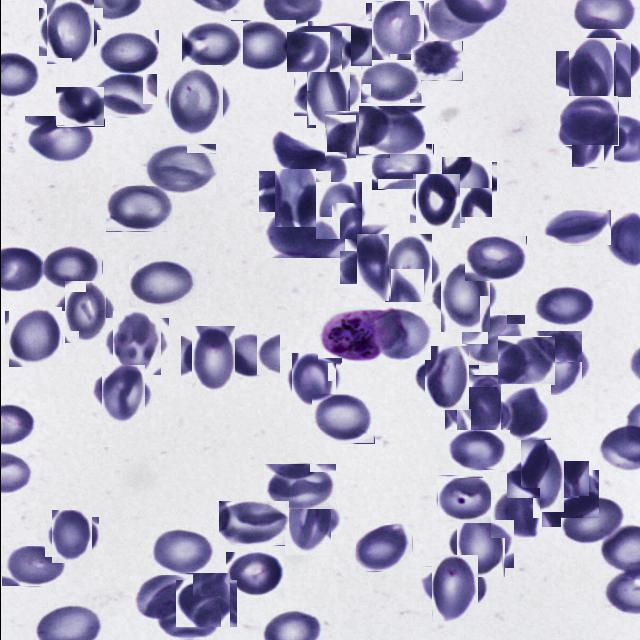red blood cell: (264, 204, 344, 258), (164, 68, 227, 130), (145, 144, 216, 196), (434, 267, 494, 327), (562, 44, 622, 104), (576, 34, 635, 93), (278, 488, 336, 548), (228, 20, 294, 72), (22, 116, 94, 163), (368, 0, 426, 58), (450, 380, 508, 438), (513, 447, 571, 505), (378, 240, 436, 298), (128, 260, 198, 308), (263, 464, 336, 510), (528, 334, 585, 392), (563, 106, 620, 164), (560, 496, 626, 546), (460, 315, 524, 366), (6, 309, 63, 366), (426, 560, 482, 618), (358, 106, 425, 154), (218, 501, 289, 546), (451, 516, 508, 572), (536, 466, 593, 522), (108, 314, 164, 371), (299, 66, 356, 122), (266, 163, 322, 220), (371, 306, 430, 360), (105, 186, 174, 232), (148, 527, 214, 575), (324, 111, 390, 159), (311, 394, 374, 444), (42, 4, 98, 60), (418, 350, 473, 406), (286, 26, 351, 73), (438, 160, 493, 214), (559, 96, 618, 146), (90, 74, 157, 118), (186, 331, 240, 385), (178, 576, 232, 630), (370, 143, 432, 190), (497, 336, 555, 386), (307, 21, 371, 66), (464, 236, 526, 282), (181, 21, 241, 68), (500, 384, 550, 440), (133, 574, 192, 621), (154, 596, 220, 638), (96, 30, 158, 74), (43, 245, 102, 291), (59, 286, 111, 338), (312, 185, 364, 237), (437, 475, 492, 524), (355, 525, 412, 572), (225, 552, 283, 598), (360, 62, 421, 104), (445, 430, 509, 470), (222, 334, 280, 378), (98, 368, 148, 419), (1, 546, 64, 586), (348, 242, 398, 292), (412, 176, 461, 226), (490, 488, 539, 538), (530, 287, 594, 325), (284, 152, 346, 191), (288, 356, 338, 404), (268, 128, 326, 169), (543, 210, 610, 245), (48, 514, 94, 560), (410, 41, 462, 81), (55, 86, 104, 126)
schizont: (316, 306, 388, 363)
